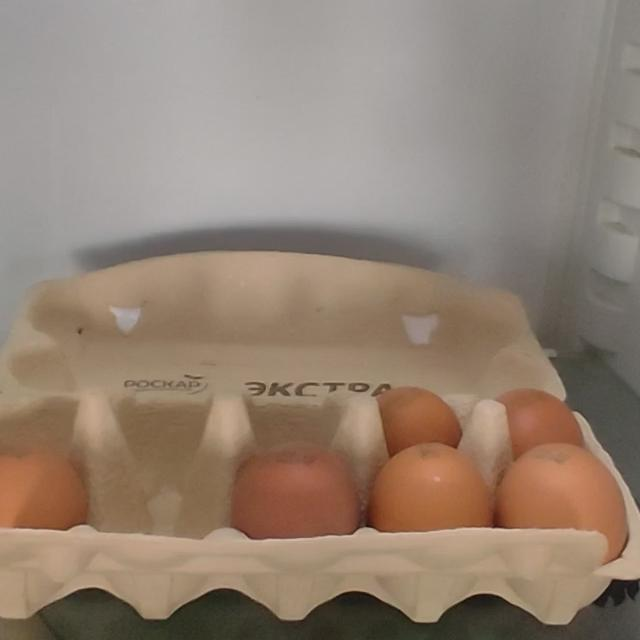egg: (0, 239, 637, 640)
